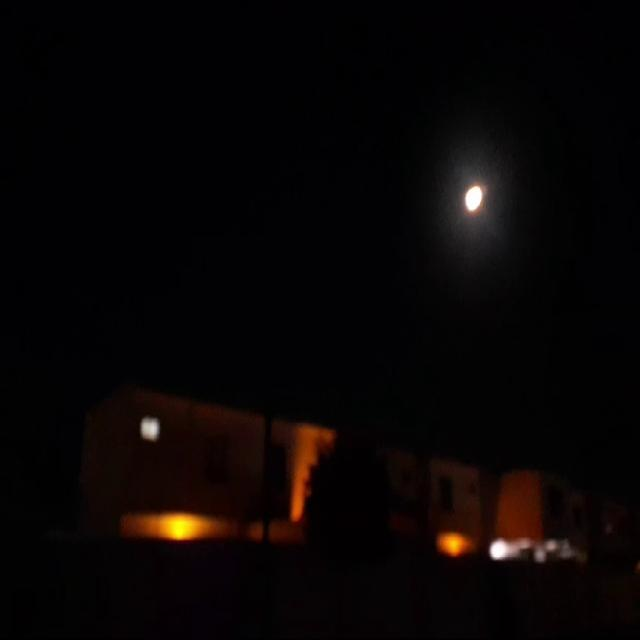moon: (463, 183, 486, 217)
